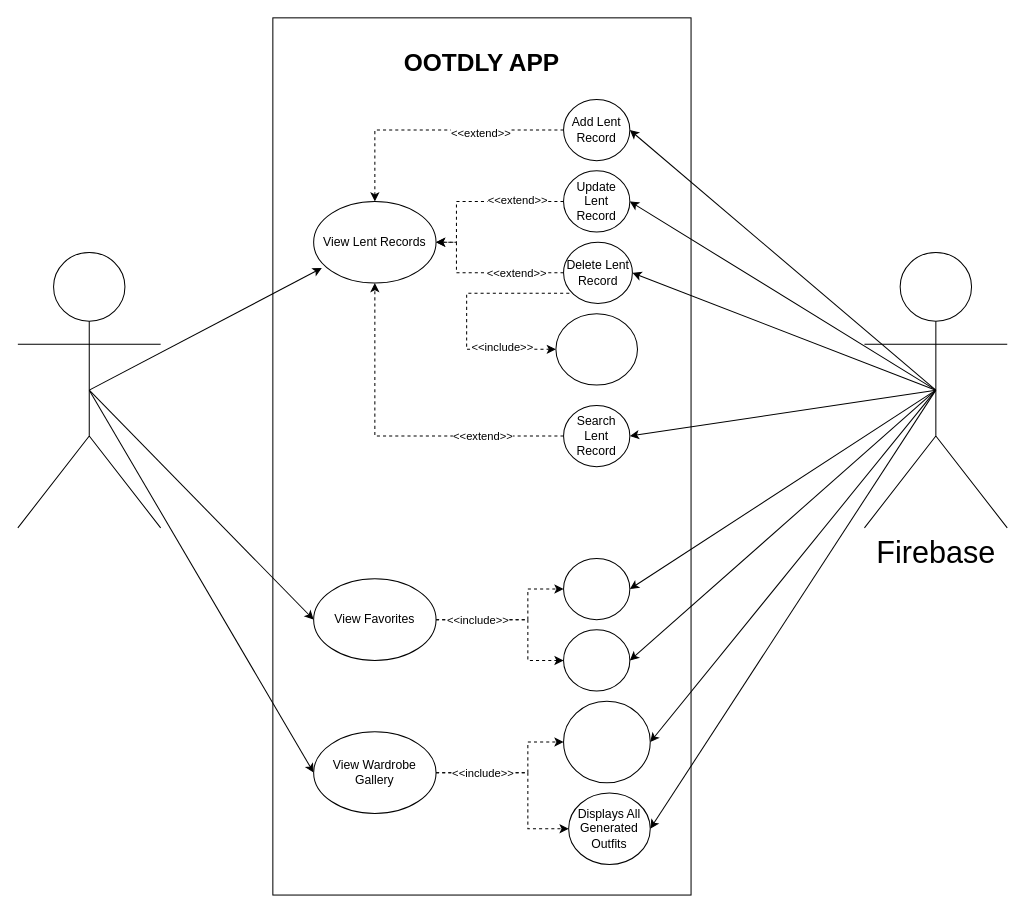
The diagram is 1025 pixels wide and 913 high, and some of its shapes have lost their labels. Here are the shapes that lost their labels. From the top down, the box of each, then its label:
(555, 313, 638, 385): Delete Confirmation
(17, 251, 161, 528): User
(563, 557, 630, 620): Displays Favorites Items
(563, 629, 630, 691): Displays Favorites Outfits
(563, 700, 650, 783): Displays All Wardrobe Items
